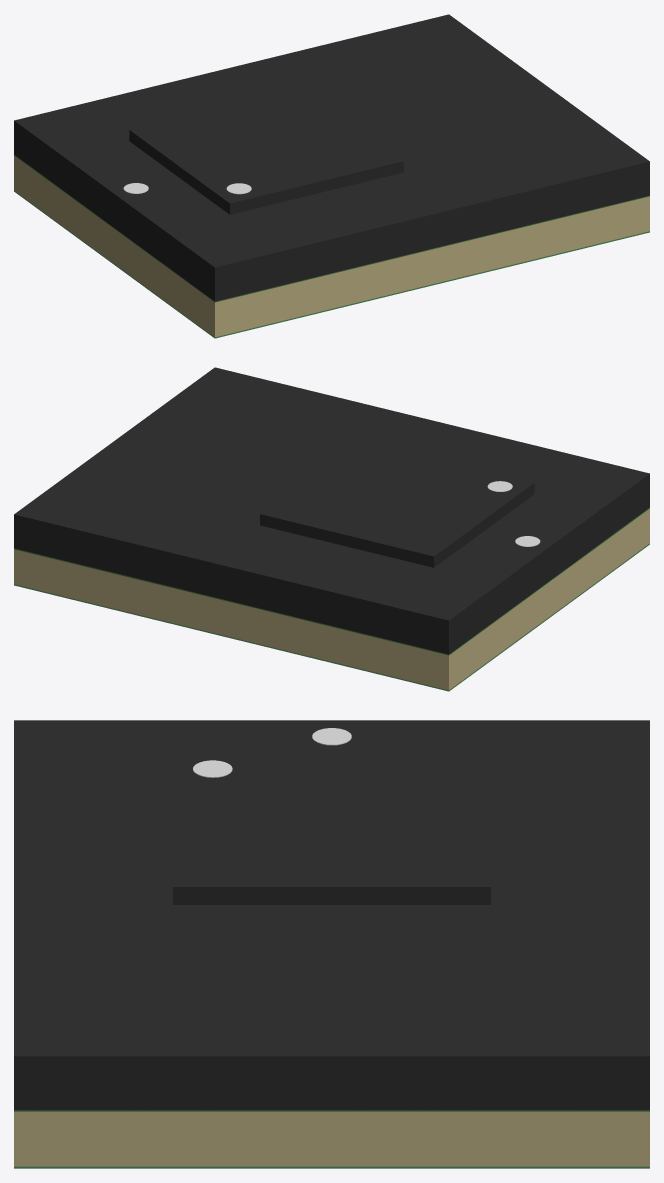
The model's file is board-sized-package.glb.
3 renders of one model, top to bottom at view 1: azimuth 30°, elevation 25°; view 2: azimuth 150°, elevation 25°; view 3: azimuth 270°, elevation 25°, orthographic. The views are drawn at different scales.
Visible parts, largest first — view 1: U3, layer/@core, U2, layer/@soldermask-bottom, layer/@soldermask-top; view 2: U3, layer/@core, U2, layer/@soldermask-bottom, layer/@soldermask-top; view 3: U3, U2, layer/@core, layer/@soldermask-bottom, layer/@soldermask-top.
Boxes of the visible parts, x1,y1,x2,y2 form: U3: (14,14,649,301); layer/@core: (14,155,649,337); U2: (129,87,403,214); layer/@soldermask-bottom: (14,190,649,338); layer/@soldermask-top: (14,154,649,302); U3: (14,367,649,654); layer/@core: (14,508,649,690); U2: (260,440,534,567); layer/@soldermask-bottom: (14,543,649,691); layer/@soldermask-top: (14,507,649,655); U3: (14,720,649,1110); U2: (173,752,490,904); layer/@core: (14,1111,649,1166); layer/@soldermask-bottom: (14,1166,649,1168); layer/@soldermask-top: (14,1109,649,1111).
Bounding box in the file's own units: 0.02 × 0.00364 × 0.016.
